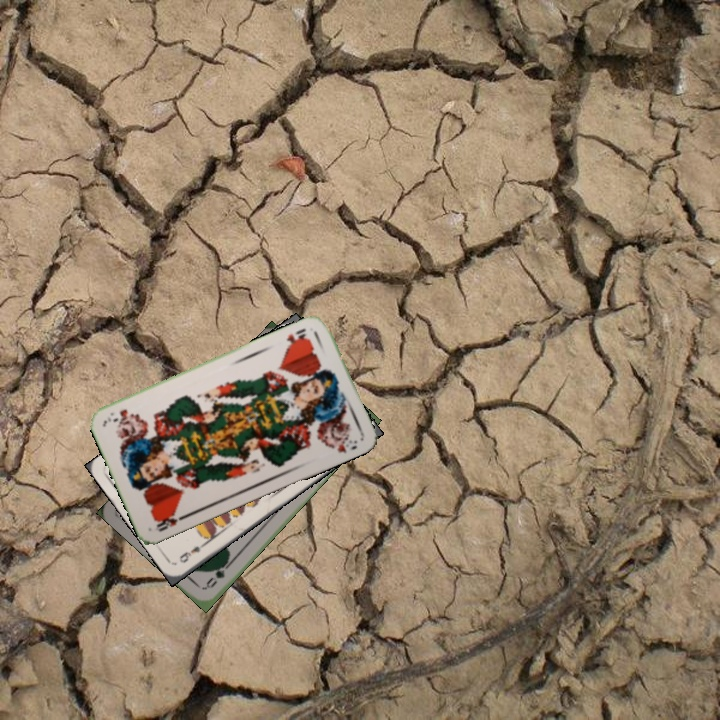E9: (175, 538, 209, 566)
GO: (201, 556, 233, 591)
HO: (153, 510, 189, 534), (281, 324, 310, 351)
